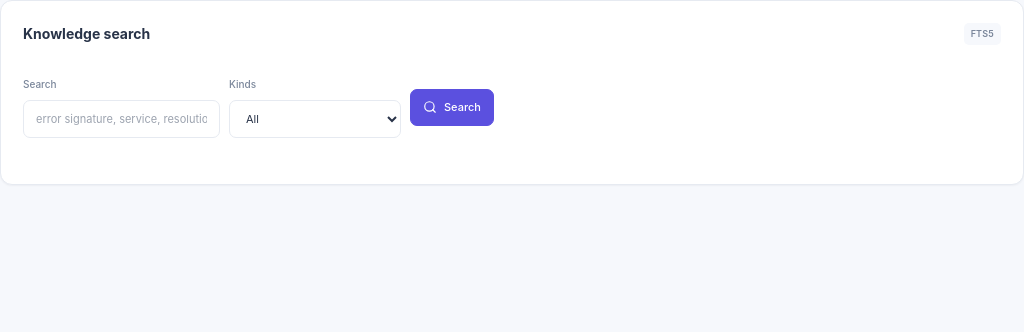
Test: KnowledgeTab › searches knowledge and shows stale badges
Type "pool" into the field named "Knowledge query". click: (122, 119)
box: [23, 100, 220, 138]
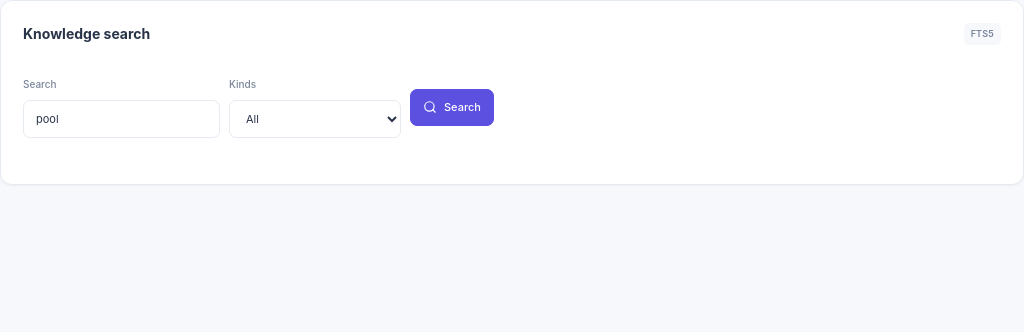
Click the button "Search". click: (452, 107)
box: [410, 89, 494, 126]
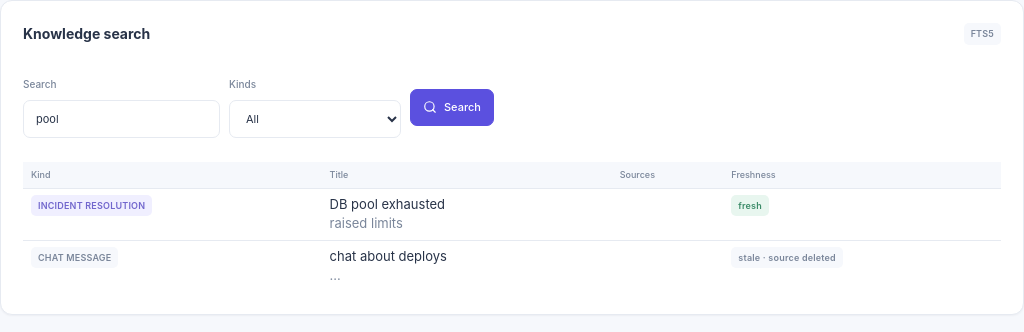
Now the text "DB pool exhausted" is shown, box [330, 196, 445, 212]
Now the text "stale · source deleted" is shown, box [731, 246, 843, 268]
